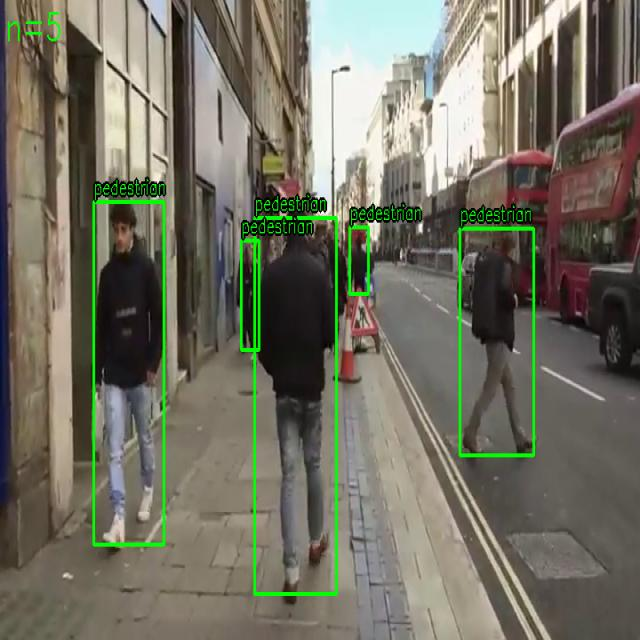with scooter: (254, 217, 337, 595), (94, 202, 164, 546), (460, 228, 534, 456), (241, 240, 259, 351), (349, 227, 369, 294)
